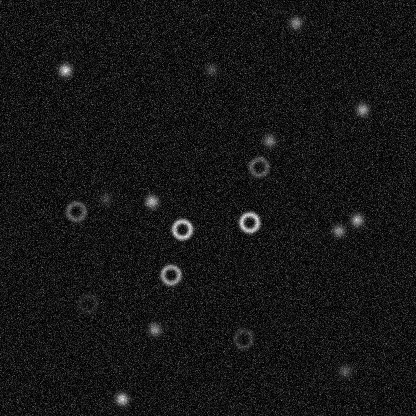Ring: (63, 199, 87, 223), (158, 262, 182, 286), (231, 326, 255, 350), (237, 210, 261, 234), (169, 217, 193, 241), (246, 154, 270, 178), (75, 291, 99, 315)
Spot: (203, 61, 219, 77), (261, 132, 277, 148), (330, 222, 346, 238), (336, 362, 352, 378), (349, 211, 365, 227), (287, 14, 303, 30), (143, 193, 159, 209), (98, 190, 114, 206), (354, 101, 370, 117), (146, 321, 162, 337), (57, 61, 73, 77), (113, 390, 129, 406)
